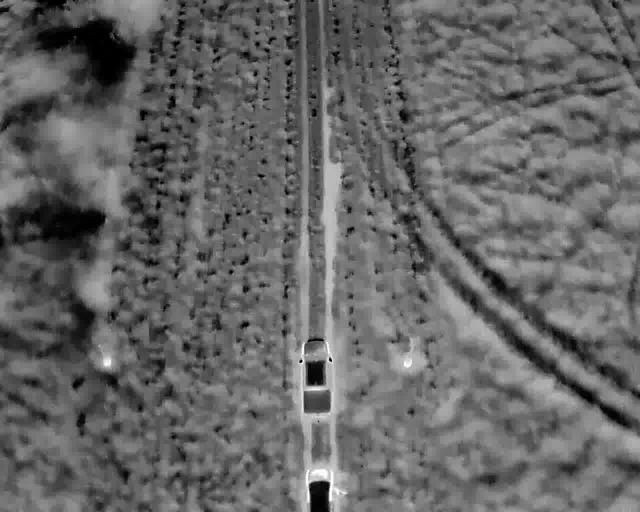car: (294, 335, 334, 421), (302, 465, 342, 512)
